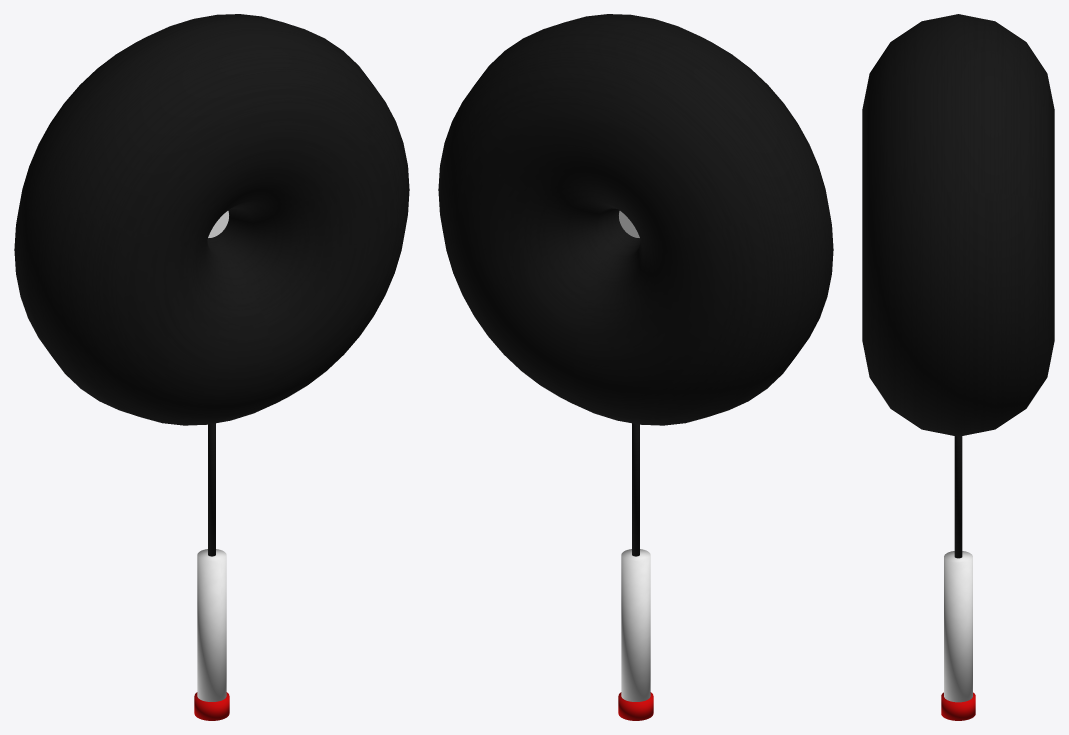
File: ai_parts_000f5e.glb
The picture shows the model from 3 angles, left to right: view 1: azimuth 30°, elevation 25°; view 2: azimuth 150°, elevation 25°; view 3: azimuth 270°, elevation 25°; orthographic projection.
Parts seen in each view (by area): view 1: 04_head_frame, 00_handle, 02_shaft, 01_butt_cap; view 2: 04_head_frame, 00_handle, 02_shaft, 01_butt_cap; view 3: 04_head_frame, 00_handle, 02_shaft, 01_butt_cap.
Part boxes in pixels (left/top/right/bottom): 04_head_frame: left=14, top=14, right=409, bottom=425; 00_handle: left=197, top=549, right=226, bottom=701; 02_shaft: left=208, top=423, right=215, bottom=556; 01_butt_cap: left=194, top=692, right=229, bottom=720; 04_head_frame: left=438, top=14, right=833, bottom=425; 00_handle: left=621, top=549, right=650, bottom=701; 02_shaft: left=632, top=423, right=639, bottom=556; 01_butt_cap: left=618, top=692, right=653, bottom=720; 04_head_frame: left=862, top=14, right=1054, bottom=436; 00_handle: left=944, top=551, right=972, bottom=702; 02_shaft: left=954, top=436, right=962, bottom=558; 01_butt_cap: left=941, top=692, right=975, bottom=720.
Bounding box in the file's own units: 44 × 78 × 20.
Materials: 4 (4 with a texture image).
